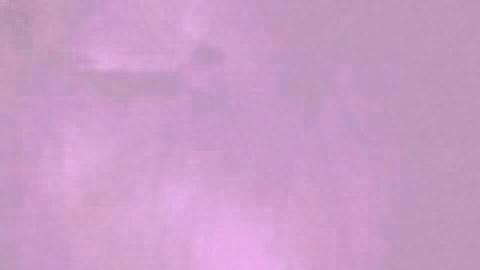tomato: (128, 165, 330, 268), (330, 166, 476, 268)
